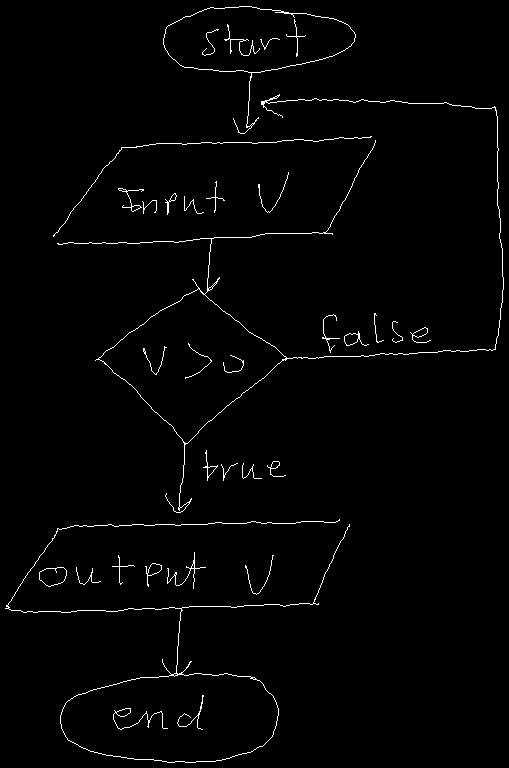arrow: (261, 94, 503, 360), (162, 609, 191, 676), (165, 442, 191, 512), (233, 72, 258, 133), (192, 238, 219, 294)
data: (53, 136, 375, 244), (5, 519, 349, 612)
decision: (95, 288, 286, 444)
terminator: (60, 673, 278, 762), (163, 6, 355, 72)
text: (39, 552, 273, 594), (118, 172, 288, 214), (322, 313, 430, 352), (202, 19, 305, 56), (143, 343, 243, 378), (113, 695, 203, 729), (203, 450, 285, 480)
